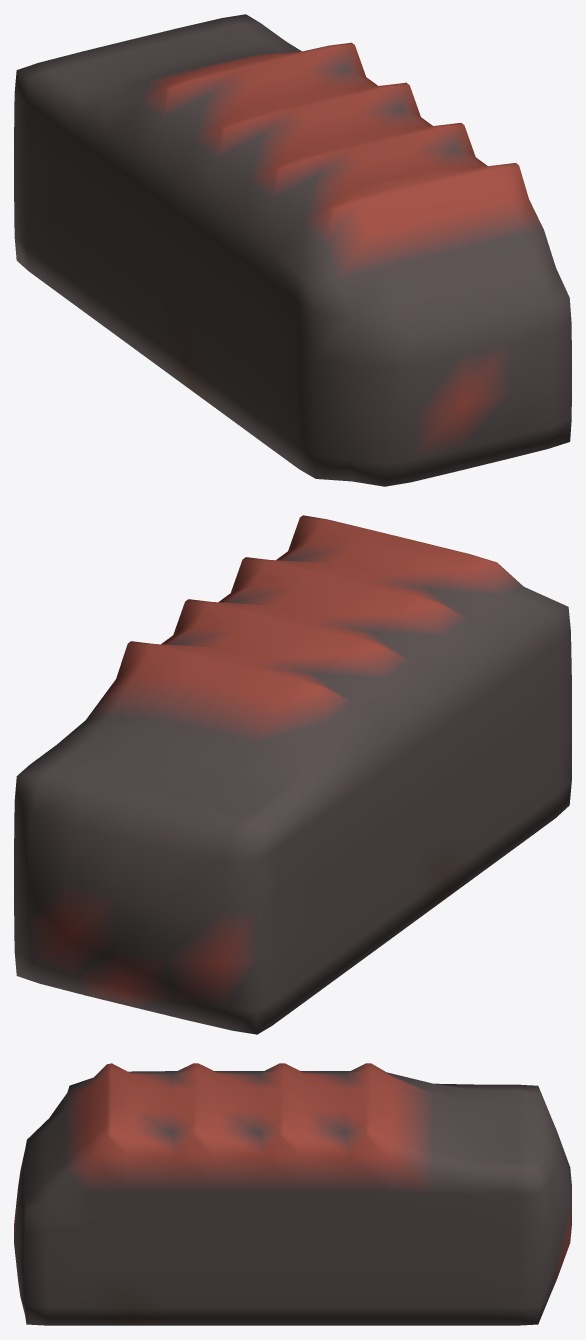
The model's file is plate_masterwork_boot_foot_L_lod1.glb.
3 renders of one model, top to bottom at view 1: azimuth 30°, elevation 25°; view 2: azimuth 150°, elevation 25°; view 3: azimuth 270°, elevation 25°, orthographic. The views are drawn at different scales.
Visible parts, largest first — view 1: plate_masterwork_boot_foot_L_lod1; view 2: plate_masterwork_boot_foot_L_lod1; view 3: plate_masterwork_boot_foot_L_lod1.
Part boxes in pixels (bbox=[...]): plate_masterwork_boot_foot_L_lod1: bbox=[14, 14, 571, 486]; plate_masterwork_boot_foot_L_lod1: bbox=[14, 515, 571, 1034]; plate_masterwork_boot_foot_L_lod1: bbox=[14, 1063, 571, 1325].
Bounding box in the file's own units: 0.12 × 0.1198 × 0.3098.
